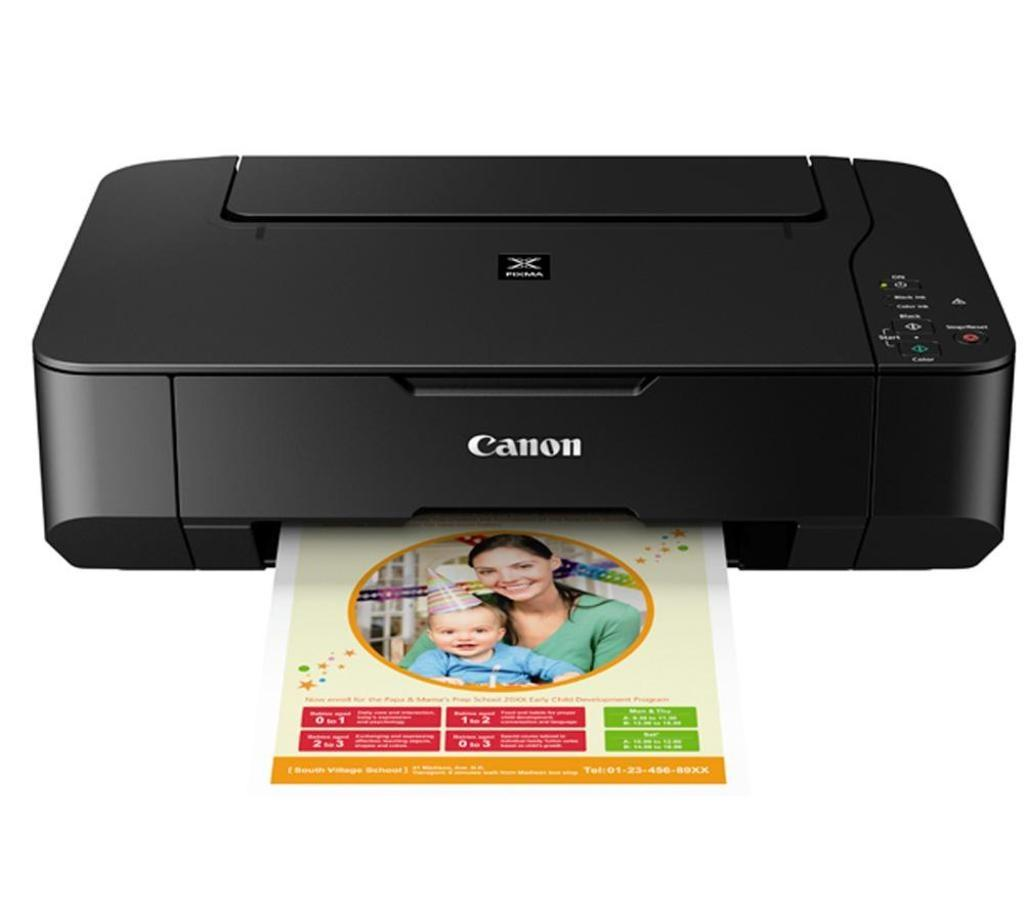Printer: (30, 153, 1016, 788)
